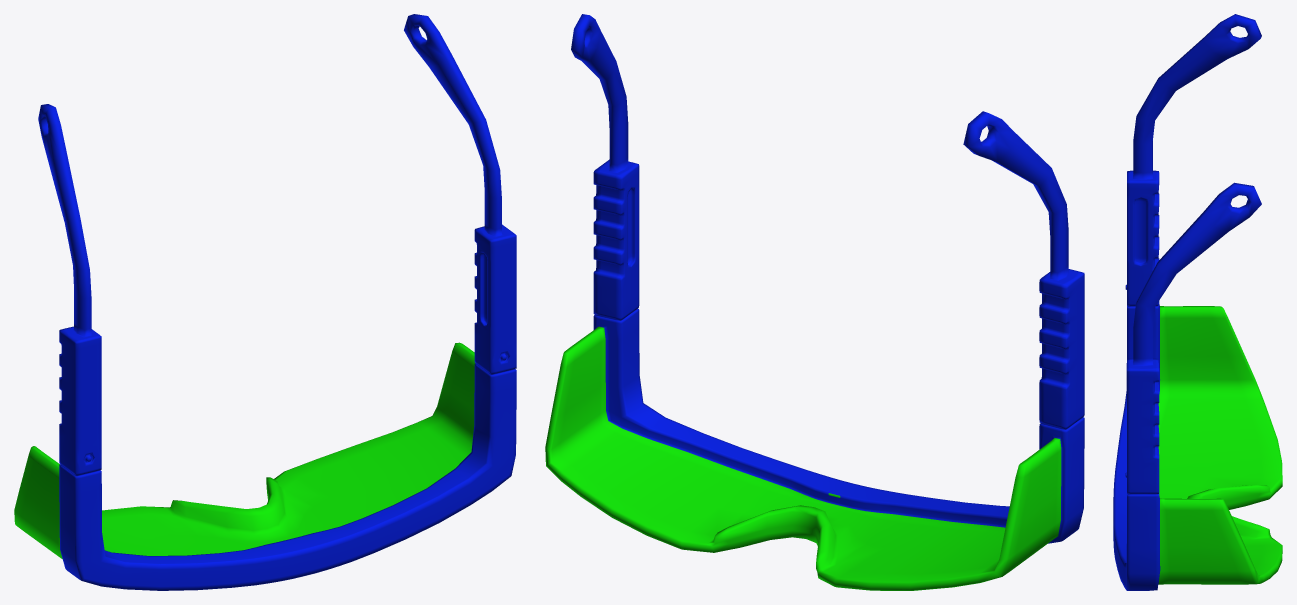
File: betterglasses.fbx
3 views of the same model, side by side, from view 1: azimuth 30°, elevation 25°; view 2: azimuth 150°, elevation 25°; view 3: azimuth 270°, elevation 25° (orthographic). The views are drawn at different scales.
Visible parts, largest first — view 1: 16616_Safety_Glasses_v1; view 2: 16616_Safety_Glasses_v1; view 3: 16616_Safety_Glasses_v1.
Boxes of the visible parts, <box> form: 16616_Safety_Glasses_v1: <box>14,14,516,590</box>; 16616_Safety_Glasses_v1: <box>545,14,1084,590</box>; 16616_Safety_Glasses_v1: <box>1113,14,1282,590</box>.
Size of the model in its own units: 1605 by 1621 by 575.
